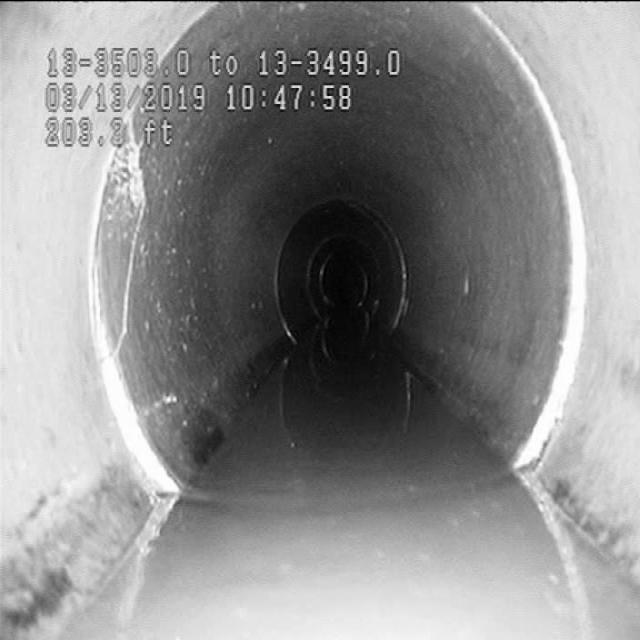Crack: (98, 178, 166, 382)
